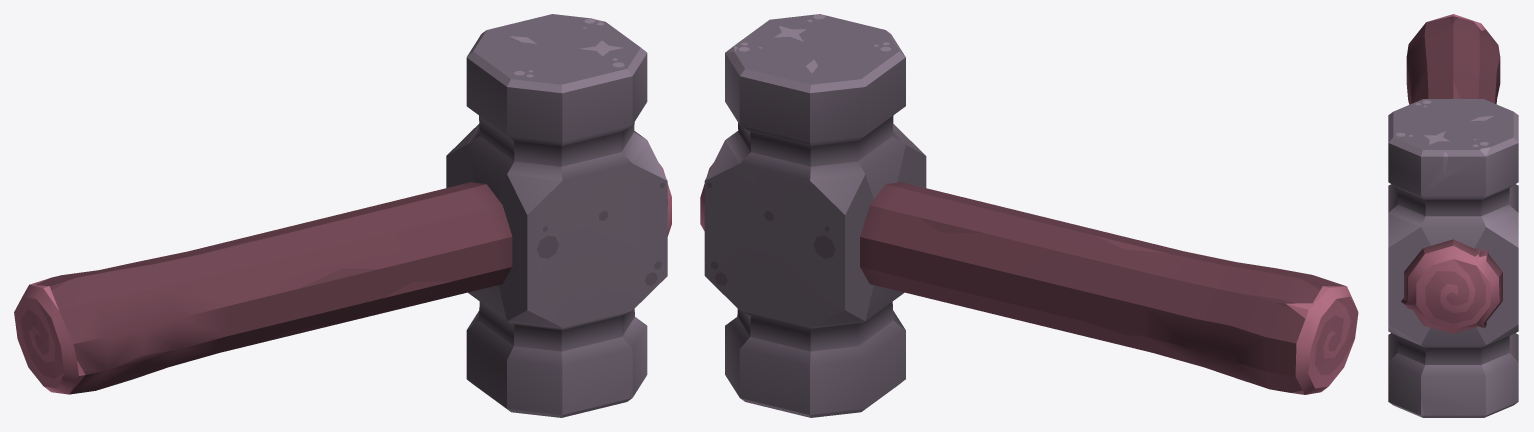
File: Tool_Hammer.fbx
The picture shows the model from 3 angles, left to right: view 1: azimuth 30°, elevation 25°; view 2: azimuth 150°, elevation 25°; view 3: azimuth 270°, elevation 25°; orthographic projection. The views are drawn at different scales.
Visible parts, largest first — view 1: Tool_Hammer; view 2: Tool_Hammer; view 3: Tool_Hammer.
Part boxes in pixels (x1=…): Tool_Hammer: x1=14, y1=14, x2=671, y2=417; Tool_Hammer: x1=700, y1=14, x2=1358, y2=417; Tool_Hammer: x1=1388, y1=14, x2=1518, y2=417.
Size of the model in its own units: 2 by 1.04 by 0.4626.
